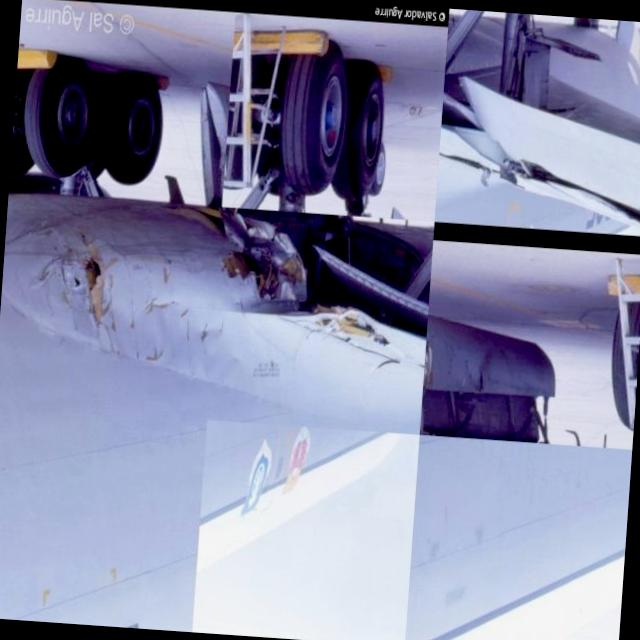crack: (189, 208, 427, 374), (440, 101, 640, 226), (65, 228, 111, 330), (84, 256, 101, 317)
dent: (106, 283, 238, 381)
